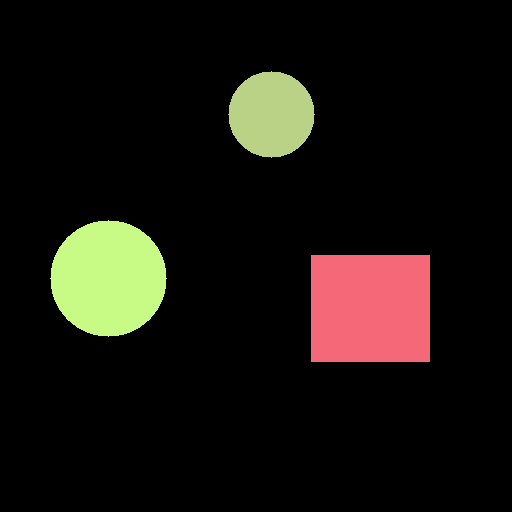circle: (50, 220, 166, 336), (228, 71, 314, 157)
rectangle: (311, 255, 429, 361)
